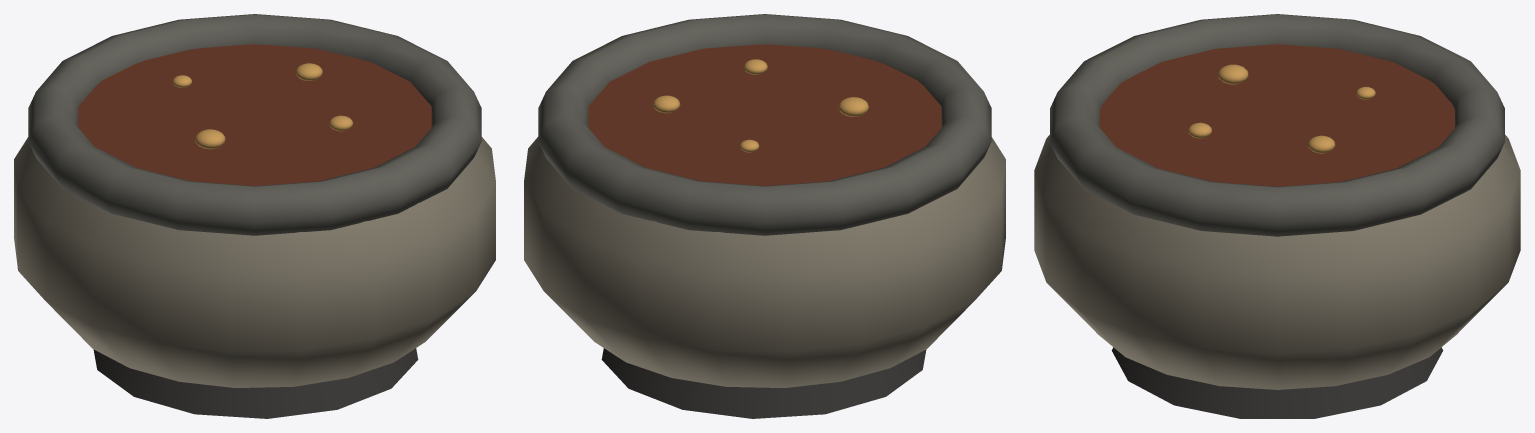
The model's file is sk_bowl_stew.glb.
3 renders of one model, left to right at view 1: azimuth 30°, elevation 25°; view 2: azimuth 150°, elevation 25°; view 3: azimuth 270°, elevation 25°, orthographic.
Visible parts, largest first — view 1: plaster; view 2: plaster; view 3: plaster.
Boxes of the visible parts, left/top/right/bottom form: plaster: left=14, top=14, right=495, bottom=418; plaster: left=524, top=14, right=1005, bottom=418; plaster: left=1034, top=14, right=1520, bottom=418.
Size of the model in its own units: 0.44 by 0.2507 by 0.44.
